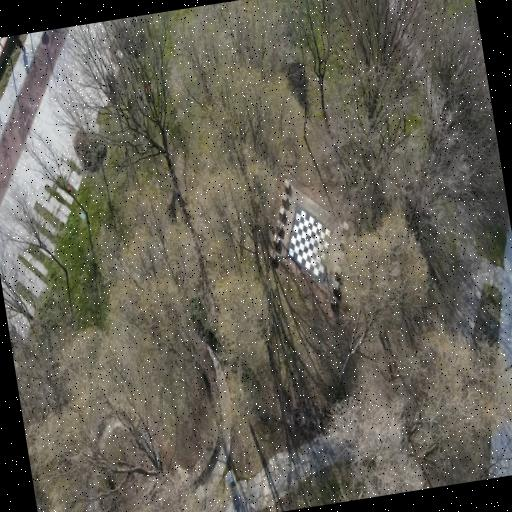person: (13, 35, 25, 52), (144, 85, 150, 103), (137, 88, 142, 101)
